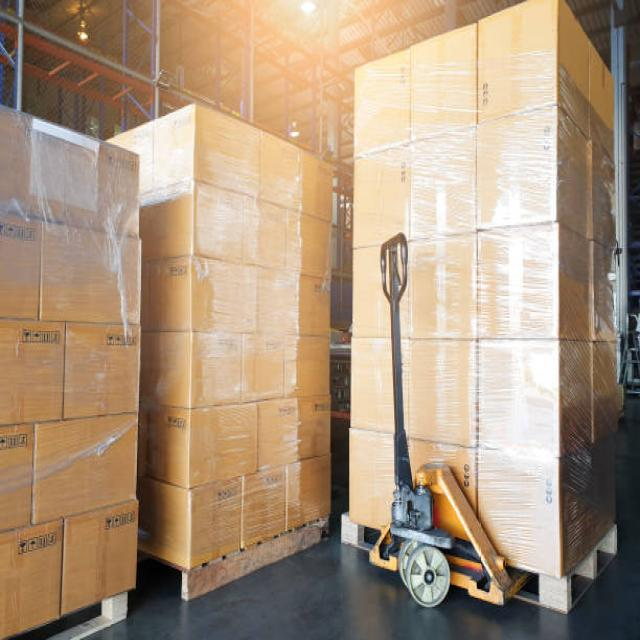Wooden-Pallets: (180, 515, 333, 607), (517, 518, 622, 618)
